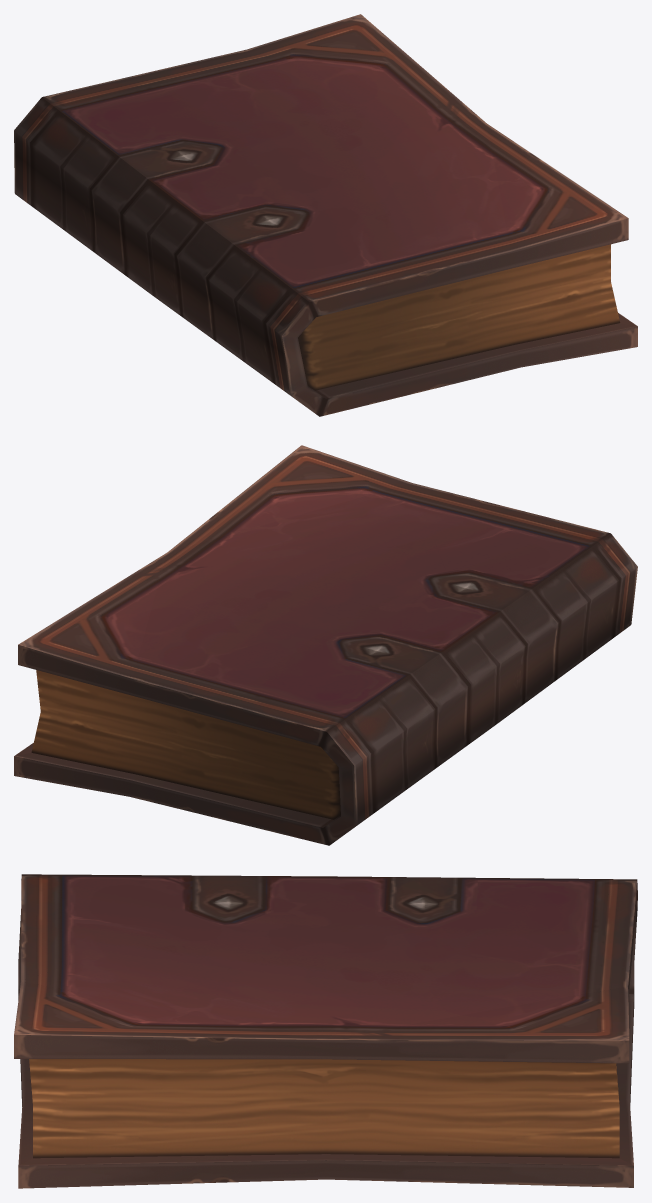
The model's file is Book_2.FBX.
3 views of the same model, one above another, from view 1: azimuth 30°, elevation 25°; view 2: azimuth 150°, elevation 25°; view 3: azimuth 270°, elevation 25° (orthographic). The views are drawn at different scales.
Parts seen in each view (by area): view 1: Book_2; view 2: Book_2; view 3: Book_2.
Boxes of the visible parts, x1,y1,x2,y2 form: Book_2: [14, 14, 637, 416]; Book_2: [14, 445, 637, 845]; Book_2: [14, 874, 637, 1188].
Size of the model in its own units: 286 by 103 by 393.
